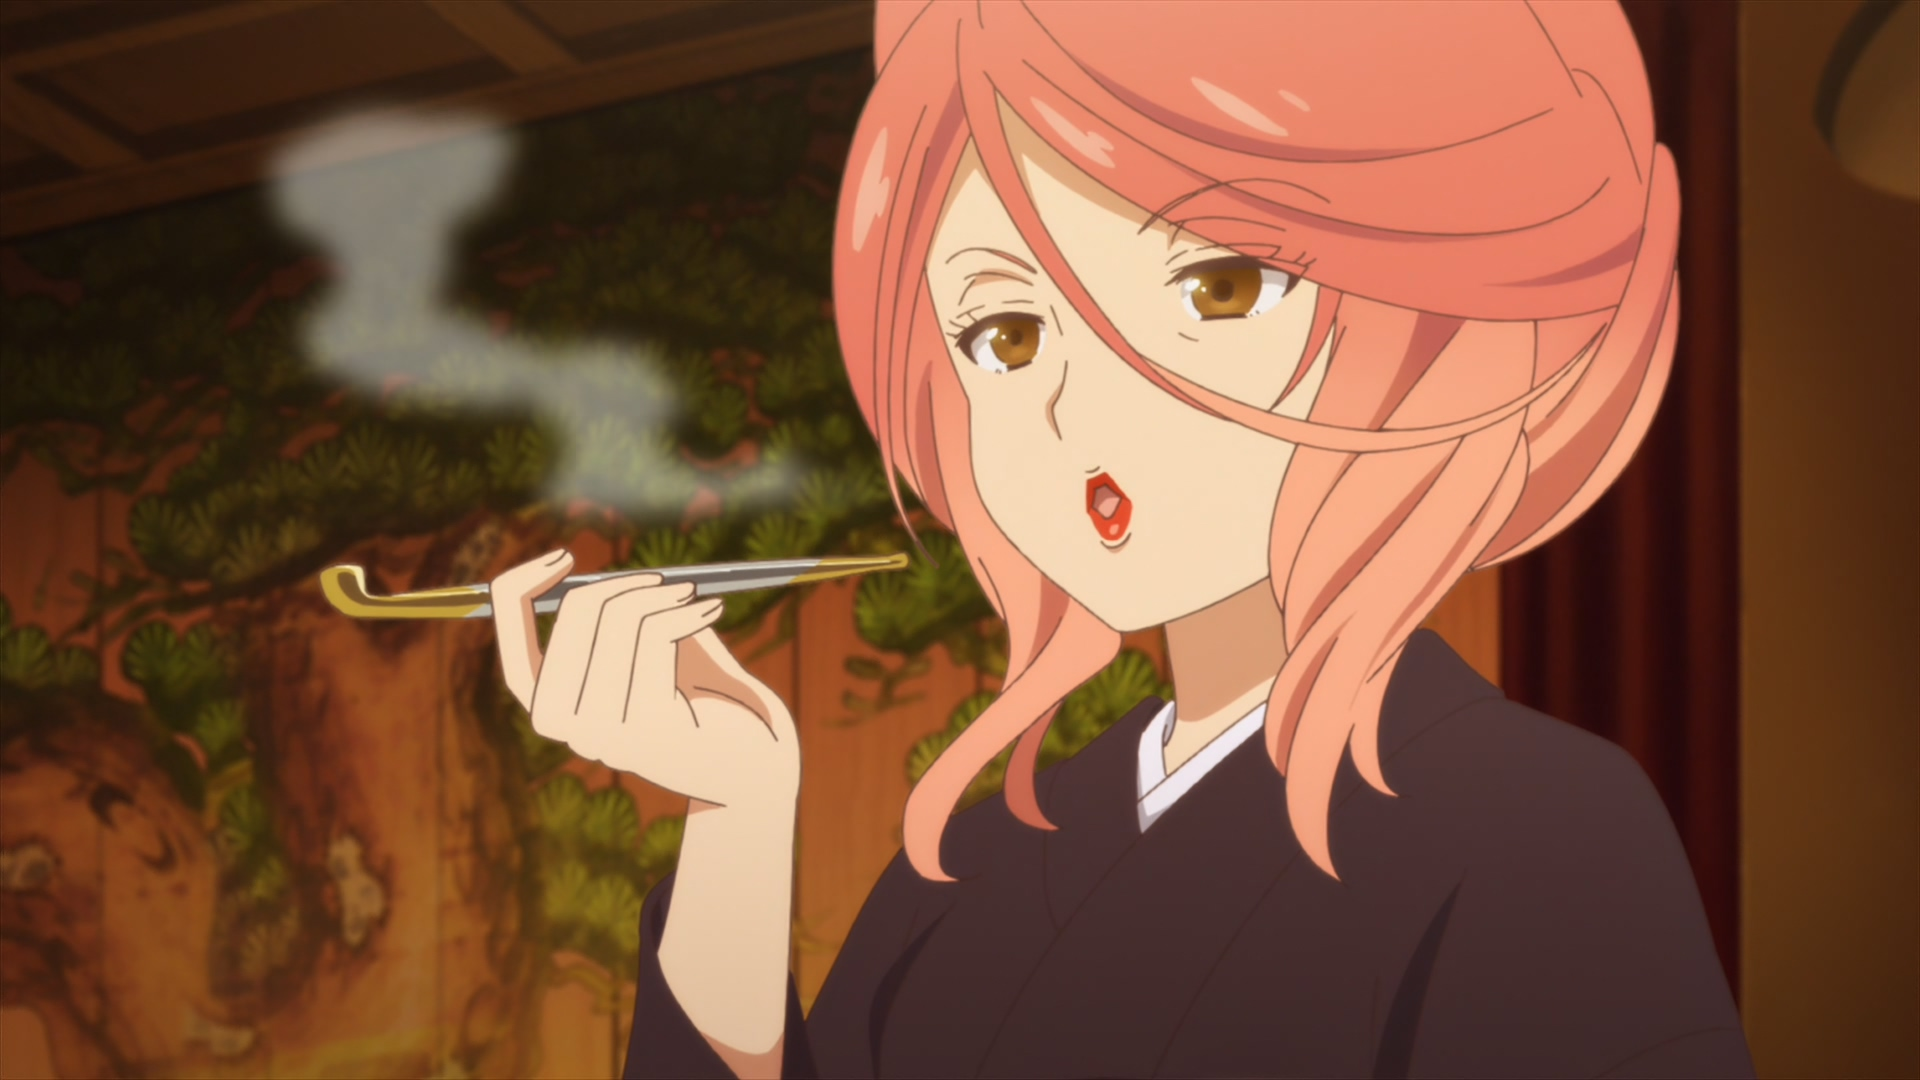椿: (491, 1, 1756, 1080)
